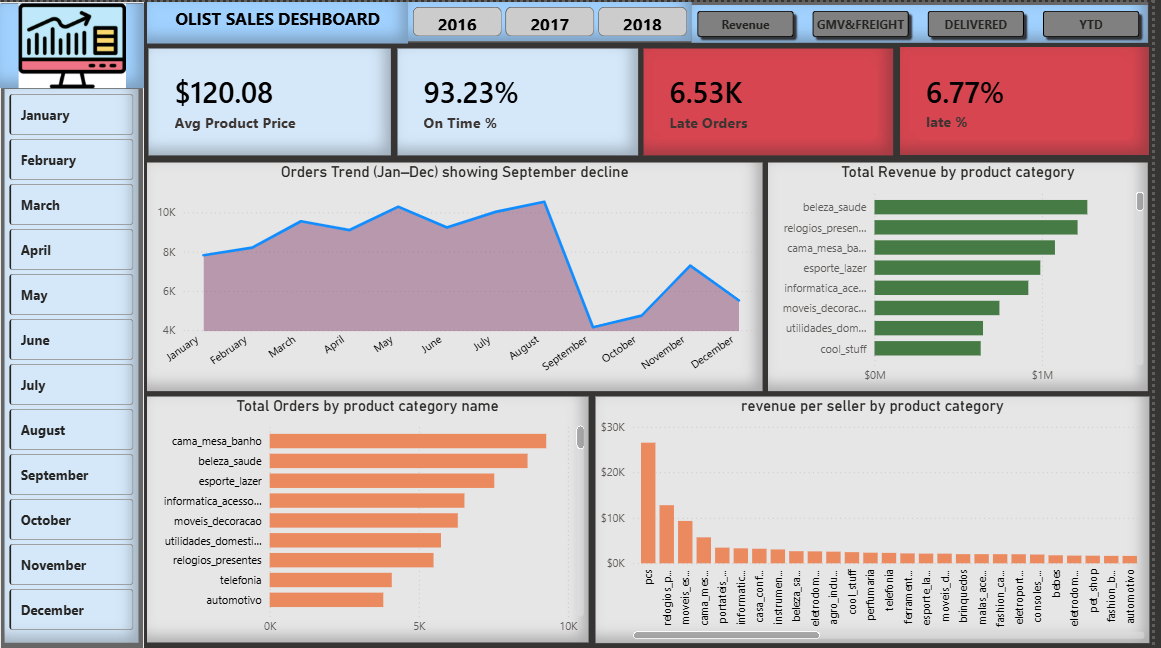

The page's visual inventory and layout, read from the dashboard file:
{"tool":"powerbi","page":{"name":"Orders ","canvas":[1280,720],"ordinal":2},"visuals":[{"type":"shape","box":[0,0,160,720],"z":0},{"type":"shape","box":[163.8,0,1112.5,45],"z":1000},{"type":"advancedSlicerVisual","fields":{"Values":["custom date.Date.Variation.Date Hierarchy.Month"]},"box":[4.9,97.2,149,615.3],"z":2000},{"type":"textbox","box":[164,0,290,46],"z":3000},{"type":"advancedSlicerVisual","fields":{"Values":["custom date.Date.Variation.Date Hierarchy.Year"]},"box":[453.3,0,315,43.3],"z":4000},{"type":"cardVisual","fields":{"Data":["public olist_master_cleaned.Avg Product Price"]},"box":[164.4,50.8,269.5,118.6],"z":5000},{"type":"cardVisual","fields":{"Data":["public olist_master_cleaned.On Time %"]},"box":[441.4,51.4,267.1,118.6],"z":6000},{"type":"cardVisual","fields":{"Data":["public olist_master_cleaned.Late Orders"]},"box":[715,51.2,277.5,118.8],"z":7000},{"type":"cardVisual","fields":{"Data":["public olist_master_cleaned.late %"]},"box":[999.4,50,276.9,120],"z":8000},{"type":"lineChart","title":"Orders Trend (Jan–Dec) showing September decline","fields":{"Category":["custom date.Date.Variation.Date Hierarchy.Month"],"Y":["public olist_master_cleaned.Total Orders"]},"box":[164,178,684,254],"z":9000},{"type":"clusteredBarChart","title":"Total Orders by product category name","fields":{"Category":["public olist_master_cleaned.product_category_name"],"Y":["public olist_master_cleaned.Total Orders"]},"box":[163.5,438.5,490.4,273.1],"z":10000},{"type":"columnChart","title":"revenue per seller by product category","fields":{"Category":["public olist_master_cleaned.product_category_name"],"Y":["public olist_master_cleaned.revenue per seller"]},"box":[662,438,615,274],"z":11000},{"type":"pageNavigator","box":[769.1,3.2,506.8,42.1],"z":12000},{"type":"image","box":[0,1.6,160.3,93.9],"z":13000},{"type":"clusteredBarChart","title":"Total Revenue by product category","fields":{"Y":["public olist_master_cleaned.Total Revenue"],"Category":["public olist_master_cleaned.product_category_name"]},"box":[854,178,422,254],"z":14000}]}

Visuals, with their boxes in screenshot pixels (x1, y1, x2, y2), scaled from the page's 1280x720 canvas onto the 1161x648 screenshot:
shape: select_region(0, 0, 145, 647)
shape: select_region(149, 0, 1158, 40)
advancedSlicerVisual - custom date.Date.Variation.Date Hierarchy.Month: select_region(4, 87, 140, 641)
textbox: select_region(149, 0, 412, 41)
advancedSlicerVisual - custom date.Date.Variation.Date Hierarchy.Year: select_region(411, 0, 697, 39)
cardVisual - public olist_master_cleaned.Avg Product Price: select_region(149, 46, 394, 152)
cardVisual - public olist_master_cleaned.On Time %: select_region(400, 46, 643, 153)
cardVisual - public olist_master_cleaned.Late Orders: select_region(649, 46, 900, 153)
cardVisual - public olist_master_cleaned.late %: select_region(906, 45, 1158, 153)
"Orders Trend (Jan–Dec) showing September decline" lineChart: select_region(149, 160, 769, 389)
"Total Orders by product category name" clusteredBarChart: select_region(148, 395, 593, 640)
"revenue per seller by product category" columnChart: select_region(600, 394, 1158, 641)
pageNavigator: select_region(698, 3, 1157, 41)
image: select_region(0, 1, 145, 86)
"Total Revenue by product category" clusteredBarChart: select_region(775, 160, 1157, 389)
